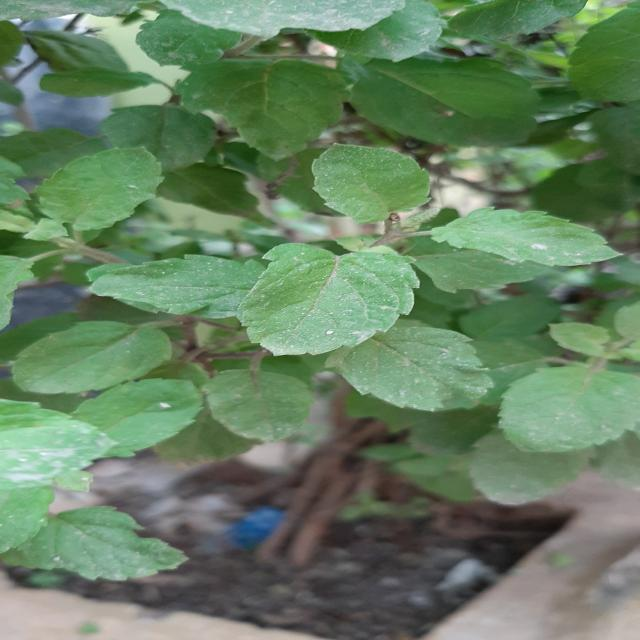tulsi: (238, 244, 420, 355)
